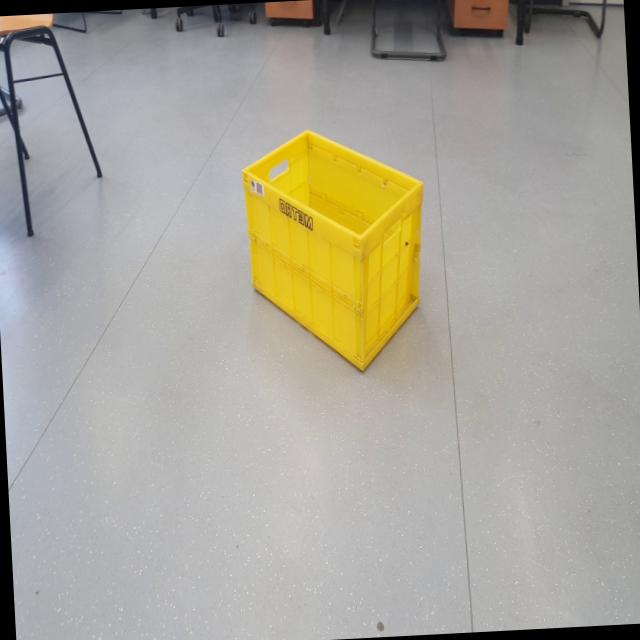box: (236, 105, 439, 397)
